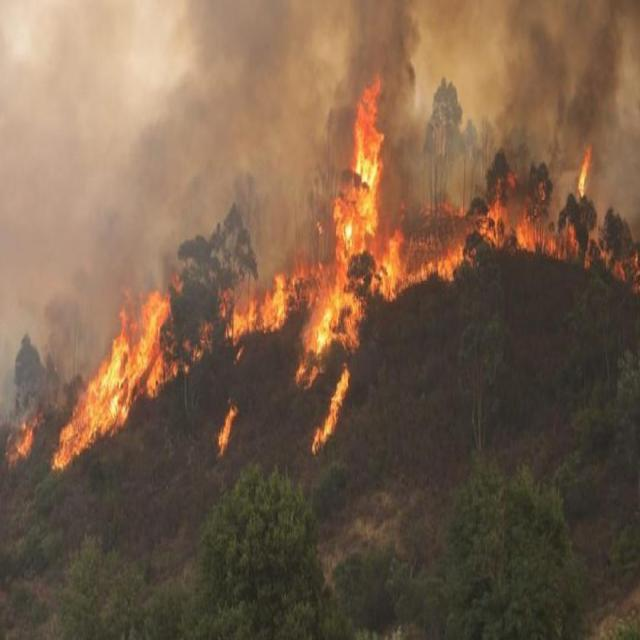Fire: (118, 287, 640, 465), (7, 350, 118, 470), (403, 226, 640, 282), (402, 165, 572, 223), (332, 164, 398, 274), (352, 74, 388, 161), (579, 148, 596, 190)
Smoke: (125, 0, 322, 253), (2, 6, 116, 332), (390, 1, 576, 159), (579, 1, 640, 145), (323, 2, 351, 162), (598, 148, 640, 226), (356, 0, 384, 71)
